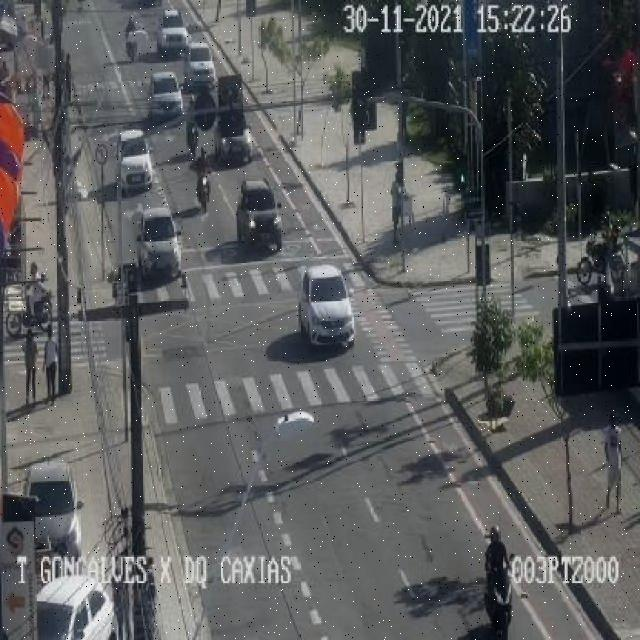car: (25, 458, 81, 560), (36, 578, 118, 640), (300, 268, 356, 354), (234, 174, 284, 254), (136, 208, 182, 284), (116, 129, 154, 189), (216, 108, 252, 164), (148, 69, 182, 122), (186, 40, 214, 86), (157, 10, 185, 52)
motorbike: (484, 523, 516, 639), (578, 206, 624, 286), (7, 270, 53, 336), (603, 408, 622, 516), (20, 328, 42, 406), (43, 322, 60, 406), (193, 144, 212, 212), (390, 172, 406, 246), (59, 49, 76, 103), (122, 14, 140, 64), (184, 94, 198, 148)
